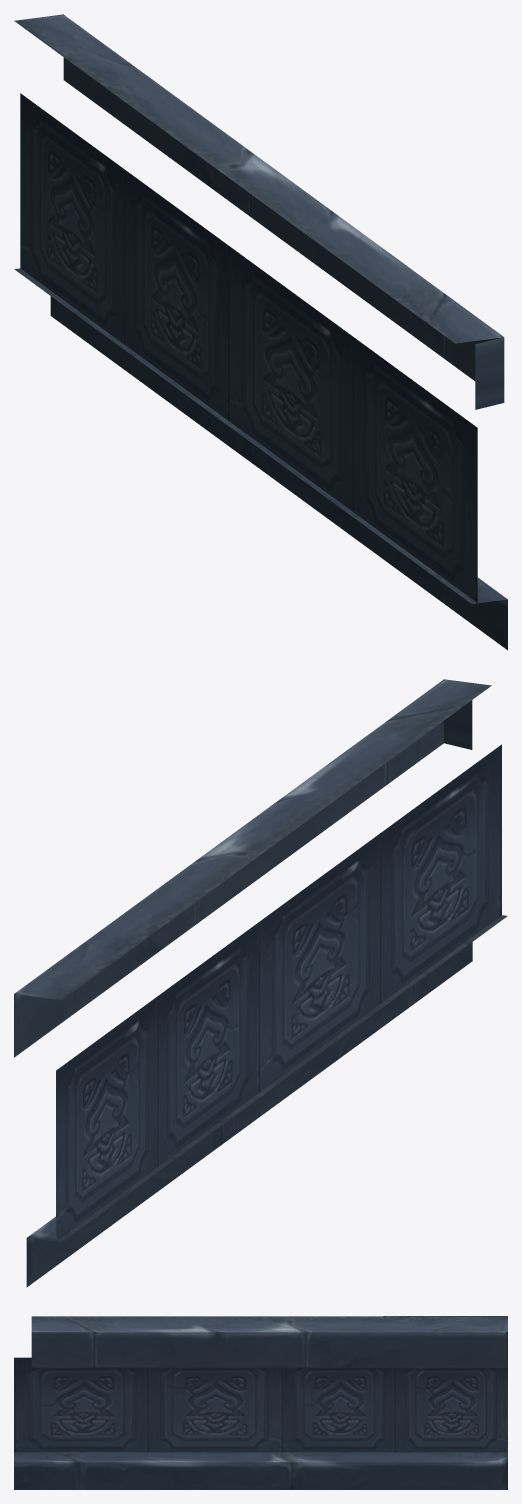
Rendered from baobian_03.FBX.
3 renders of one model, top to bottom at view 1: azimuth 30°, elevation 25°; view 2: azimuth 150°, elevation 25°; view 3: azimuth 270°, elevation 25°, orthographic. The views are drawn at different scales.
Visible parts, largest first — view 1: Object053; view 2: Object053; view 3: Object053.
Part boxes in pixels (box(x1,y1,x2,y2)): Object053: box(14, 14, 507, 650); Object053: box(14, 679, 507, 1287); Object053: box(14, 1316, 507, 1489).
Size of the model in its own units: 53.16 by 312 by 850.
